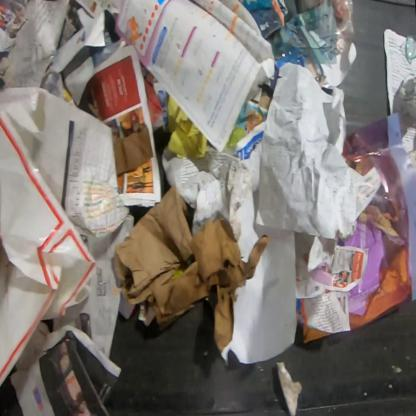cardboard: (152, 216, 270, 355), (113, 185, 194, 306), (112, 121, 154, 176)
rigid_plastic: (404, 34, 416, 63)
soft_plastic: (0, 88, 101, 393)
